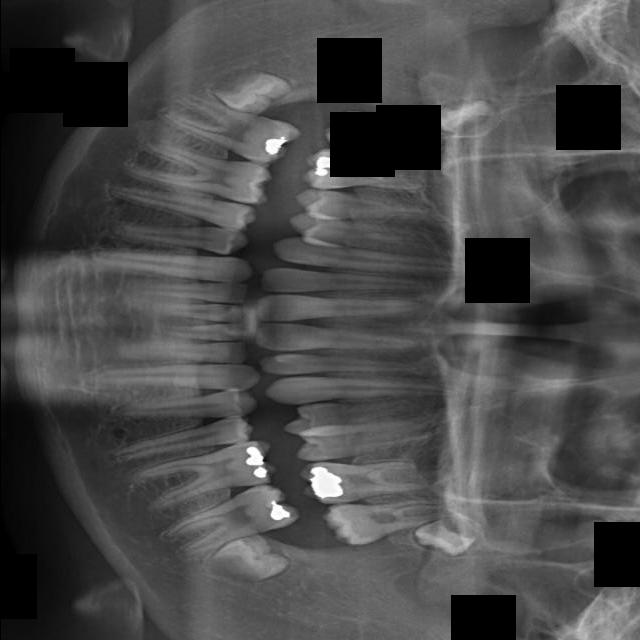3M ESPE Implant: (427, 95, 501, 141)
AGS Medikal Implant: (154, 475, 301, 565)
AMerOss Implant: (128, 436, 280, 517)
Amalgam filling: (321, 108, 466, 161)
Anthogyr Implant: (104, 414, 256, 463)
Bicon Implant: (120, 387, 260, 429)
BioHorizons Implant: (93, 363, 261, 391)
BioLife Implant: (125, 341, 248, 366)
Biomet 3i Implant: (149, 323, 243, 341)
Blue Sky Bio Implant: (145, 302, 245, 322)
Camlog Implant: (136, 280, 248, 304)
Caries: (257, 354, 420, 374)
Composite filling: (84, 248, 254, 284)
Cowellmedi Implant: (107, 214, 251, 258)
Crown: (106, 178, 258, 233)
DENTSPLY Implant: (300, 146, 434, 200)
Dentatus Implant: (124, 137, 275, 207)
Dentis Implant: (152, 86, 302, 172)
Dentium Implant: (206, 62, 295, 121)
Euroteknika Implant: (293, 189, 445, 222)
Filling: (283, 212, 444, 255)
Frontier Implant: (270, 232, 473, 291)
Hiossen Implant: (263, 367, 461, 407)
Implant: (253, 291, 427, 322)
Implant Direct: (259, 268, 431, 293)
Keystone Dental Implant: (253, 320, 424, 364)
MIS Implant: (279, 381, 438, 446)
Mandible: (292, 414, 456, 467)
Maxilla: (300, 462, 431, 504)
Megagen Implant: (321, 496, 457, 548)
Neodent Implant: (410, 507, 488, 568)
Neoss Implant: (198, 527, 293, 599)
